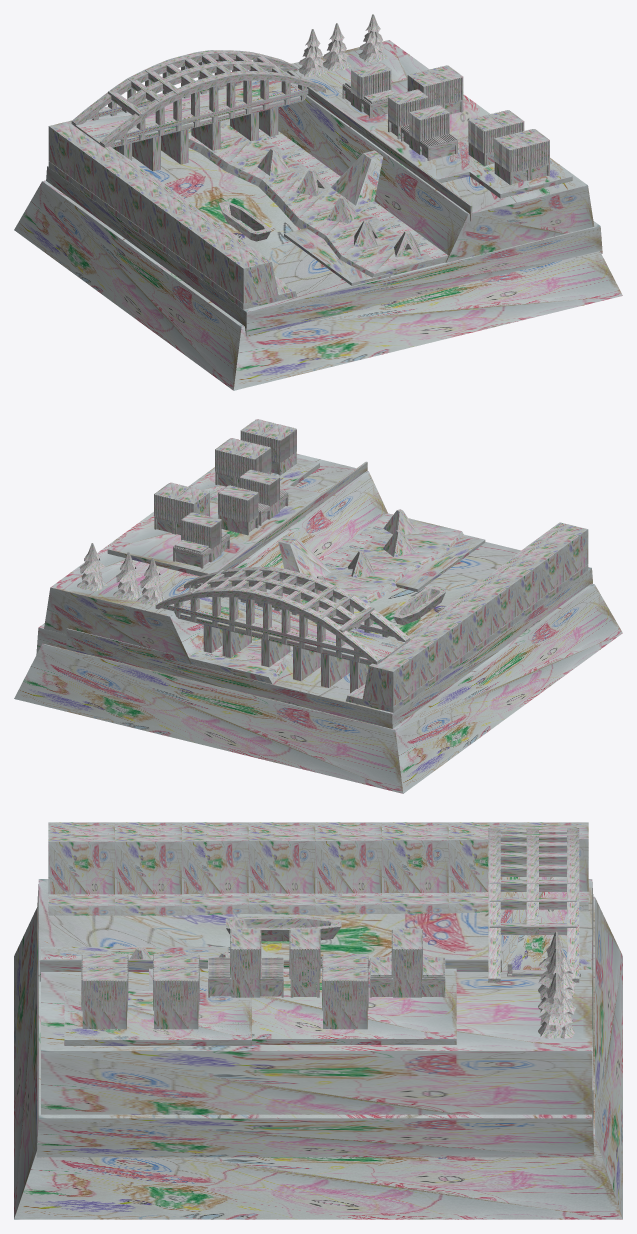
The model's file is kids.glb.
3 views of the same model, one above another, from view 1: azimuth 30°, elevation 25°; view 2: azimuth 150°, elevation 25°; view 3: azimuth 270°, elevation 25° (orthographic). The views are drawn at different scales.
Visible parts, largest first — view 1: かわまち3D_Town_盛岡_for_テクスチャ; view 2: かわまち3D_Town_盛岡_for_テクスチャ; view 3: かわまち3D_Town_盛岡_for_テクスチャ.
Boxes of the visible parts, x1,y1,x2,y2 form: かわまち3D_Town_盛岡_for_テクスチャ: [14, 14, 622, 390]; かわまち3D_Town_盛岡_for_テクスチャ: [14, 419, 622, 793]; かわまち3D_Town_盛岡_for_テクスチャ: [14, 822, 622, 1219].
Size of the model in its own units: 6.64 by 2.47 by 6.49.
1 material, 1 textured.
